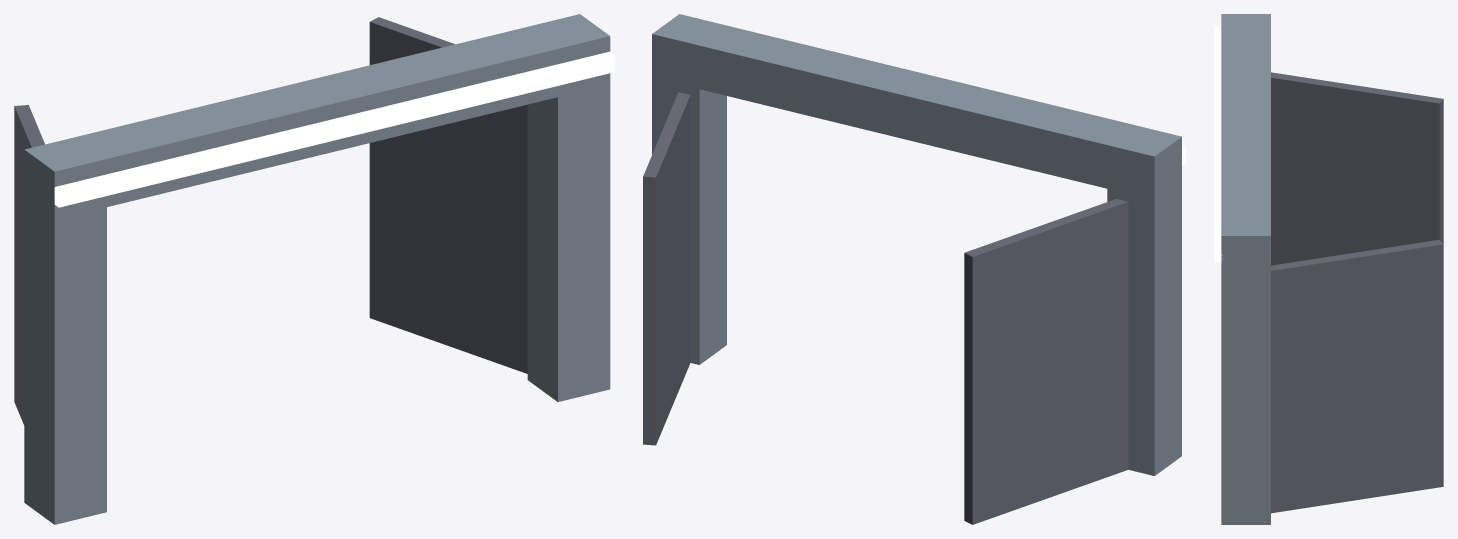
Rendered from PropGate.fbx.
3 renders of one model, left to right at view 1: azimuth 30°, elevation 25°; view 2: azimuth 150°, elevation 25°; view 3: azimuth 270°, elevation 25°, orthographic. The views are drawn at different scales.
Visible parts, largest first — view 1: Gate_Door_R, Gate_Beam, Gate_Post_L, Gate_Post_R, Gate_Strip, Gate_Door_L; view 2: Gate_Door_L, Gate_Beam, Gate_Post_L, Gate_Door_R, Gate_Post_R; view 3: Gate_Door_R, Gate_Door_L, Gate_Beam, Gate_Post_R, Gate_Strip.
Part boxes in pixels (box(x1,y1,x2,y2)): Gate_Door_R: box(369, 17, 527, 373); Gate_Beam: box(24, 14, 610, 219); Gate_Post_L: box(24, 155, 106, 524); Gate_Post_R: box(527, 84, 610, 401); Gate_Strip: box(54, 51, 614, 207); Gate_Door_L: box(14, 105, 44, 425); Gate_Door_L: box(964, 199, 1128, 524); Gate_Beam: box(652, 14, 1181, 198); Gate_Post_L: box(1107, 147, 1181, 475); Gate_Door_R: box(643, 92, 690, 445); Gate_Post_R: box(652, 36, 726, 364); Gate_Door_R: box(1271, 239, 1443, 513); Gate_Door_L: box(1271, 72, 1443, 265); Gate_Beam: box(1221, 14, 1270, 275); Gate_Post_R: box(1221, 237, 1270, 524); Gate_Strip: box(1214, 26, 1221, 262).
Bounding box in the file's own units: 2.65 × 1.61 × 1.16.
